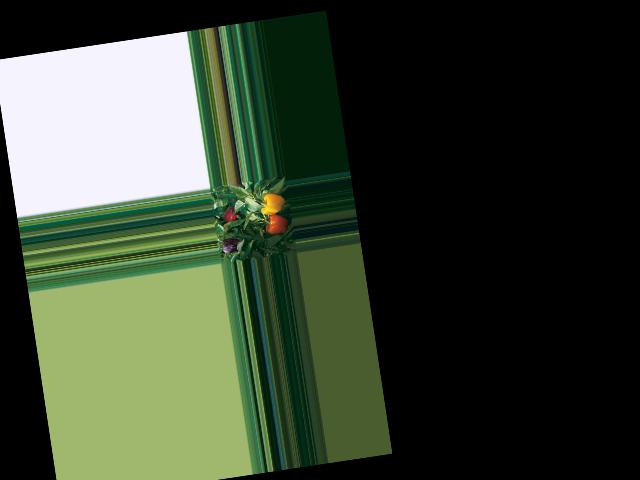bell_pepper: (257, 191, 286, 221)
